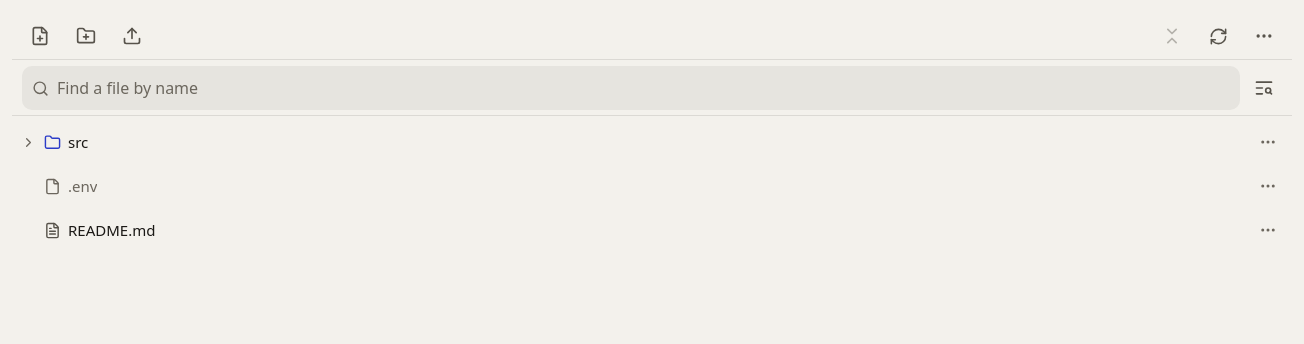
Test: the files panel › reads the project folder, then each folder only when it is opened — and only once
This screenshot has width=1304, height=344.
What coordinates should you click on to do the following:
click the list item with aria-label "src, folder"
I would click on:
 (28, 142)
Its box is [12, 120, 1246, 164].
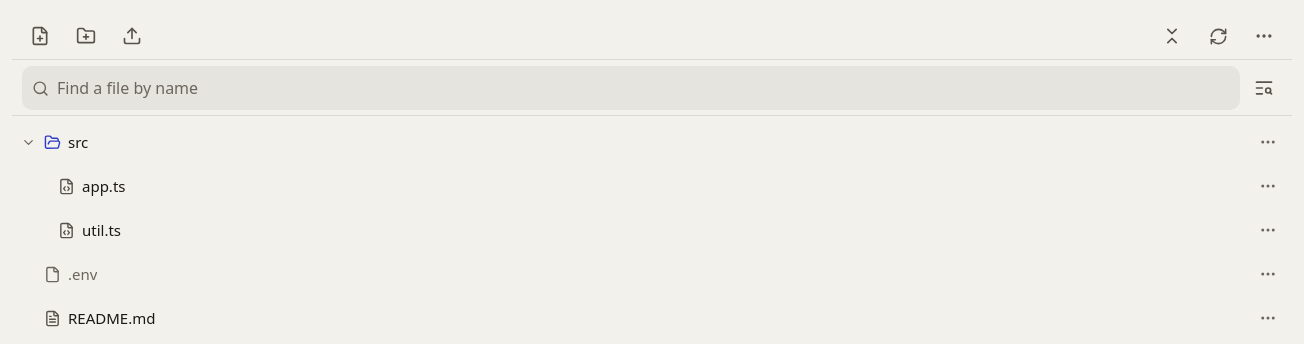
Note: Closing and opening again asks the server nothing.
What coordinates should you click on to do the following:
click the list item with aria-label "src, folder"
I would click on:
 (28, 142)
Its box is [12, 120, 1246, 164].
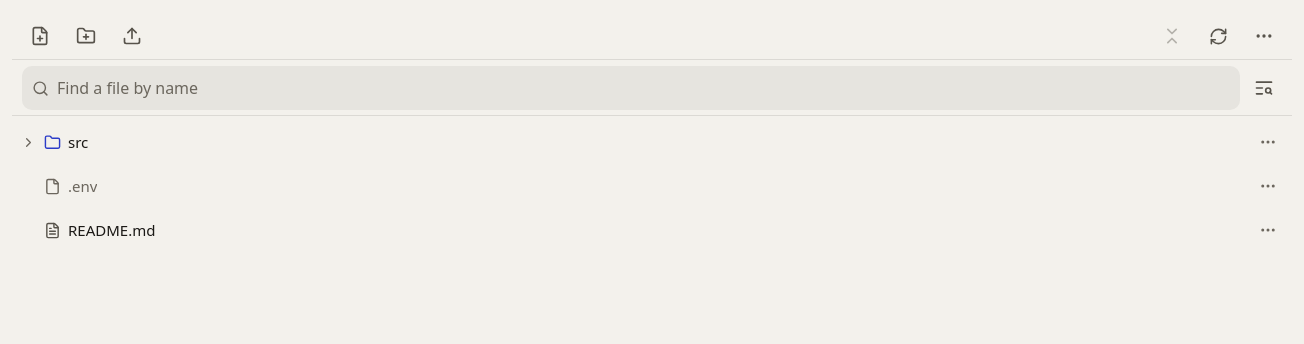
Expected: the list item "app.ts" is gone
What coordinates should you click on to do the following:
click the list item with aria-label "src, folder"
I would click on:
 (28, 142)
Its box is [12, 120, 1246, 164].
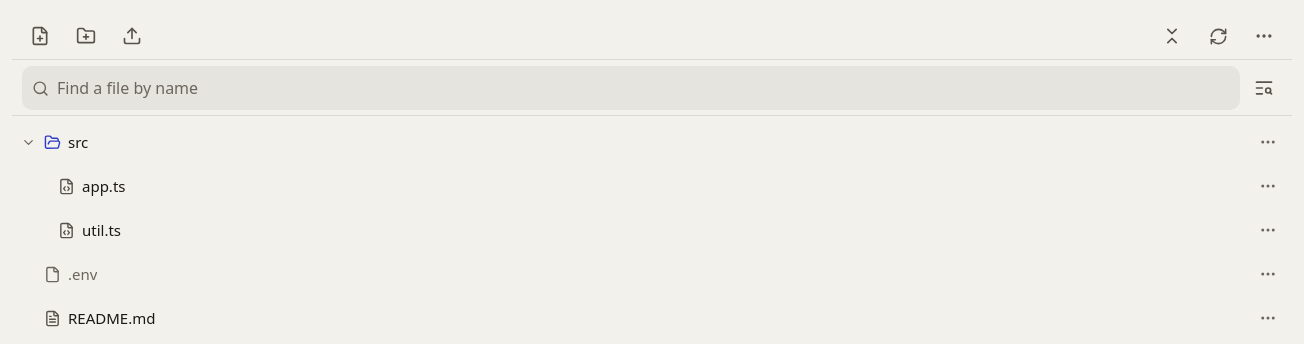
Expected: the list item "app.ts" is shown, [12, 164, 1246, 208]
